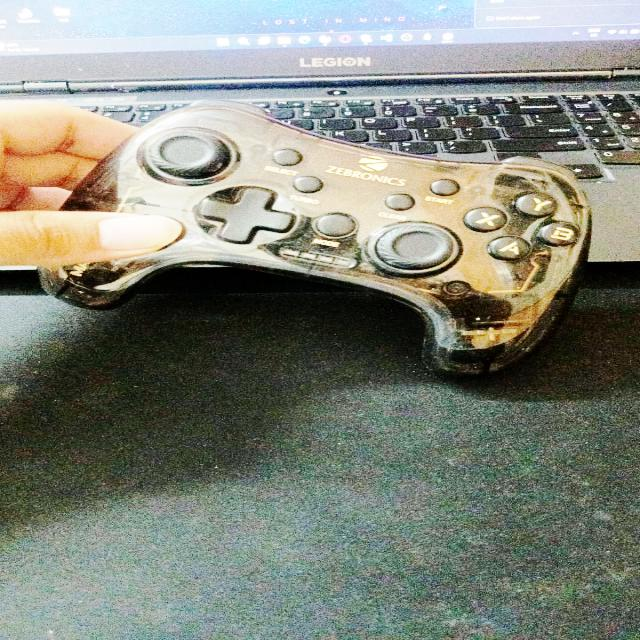gamepad: (32, 98, 591, 382)
